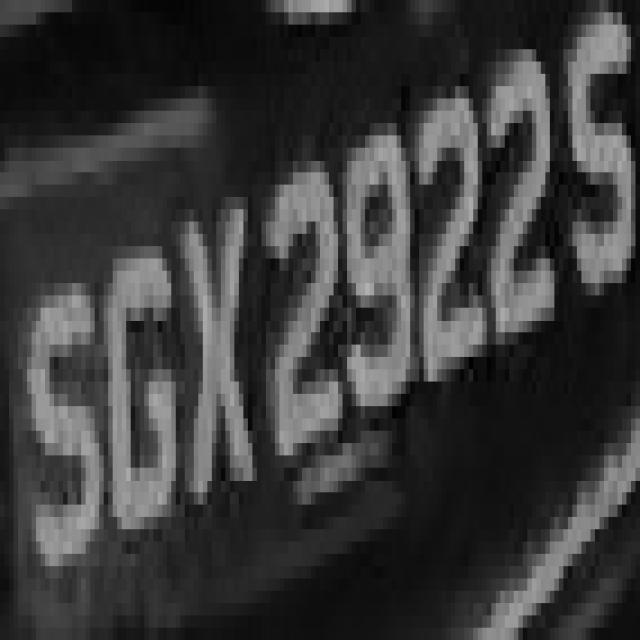2: (248, 135, 347, 480), (469, 37, 559, 406), (396, 62, 486, 430)
9: (329, 98, 424, 456)
G: (108, 222, 176, 566)
S: (18, 259, 104, 603), (550, 37, 640, 308)
X: (167, 172, 266, 530)
